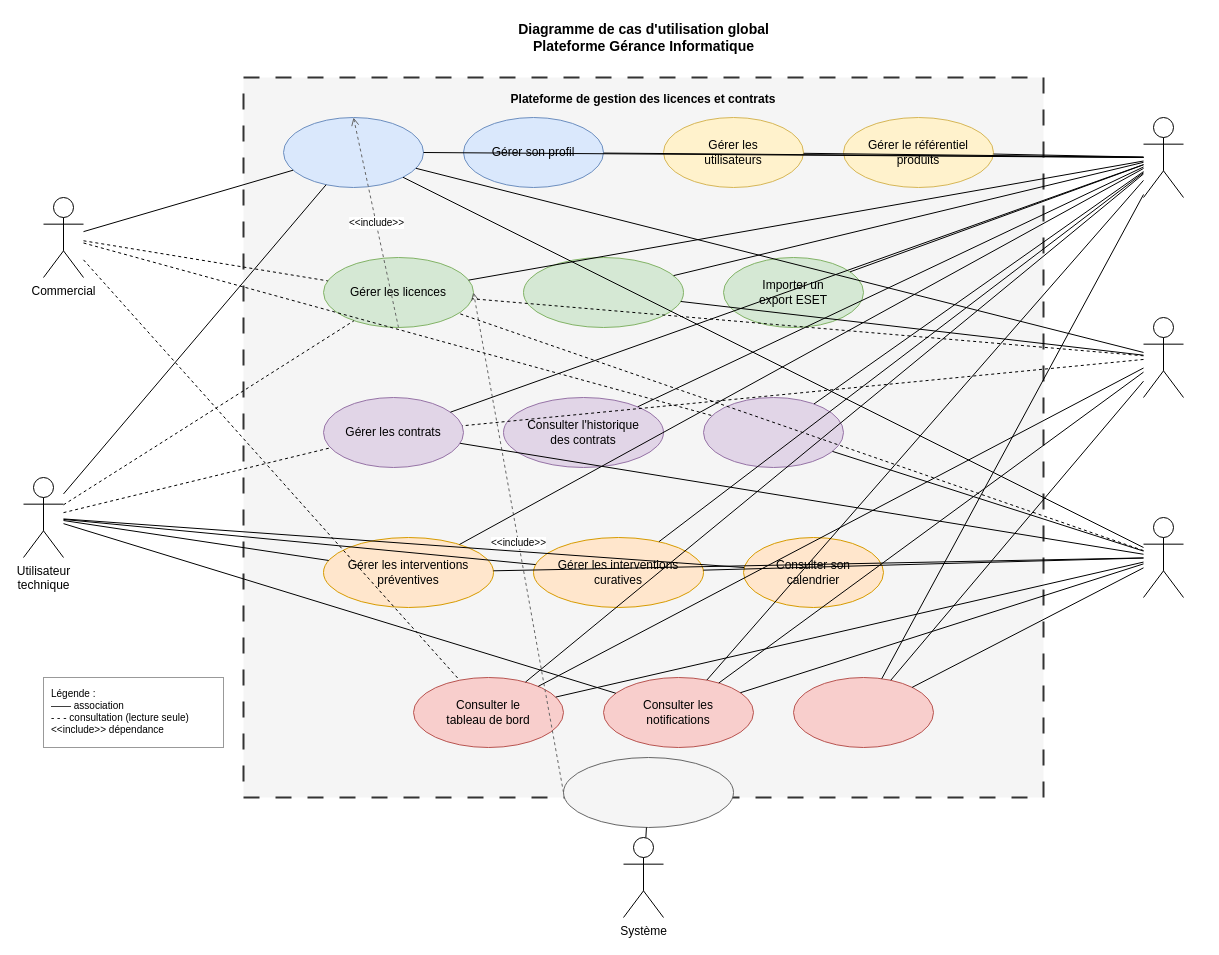
This 1219x955 diagram has some shape labels left out. Each missing label, with the centre of its shape:
Admin commercial: (1163,357)
Admin technique: (1163,557)
Consulter les licences expirées: (603,292)
Envoyer les alertes d'expiration (e-mail): (648,792)
Gérer les clients: (773,432)
S'authentifier: (353,152)
Super administrateur: (1163,157)
Utiliser le chatbot: (863,712)
